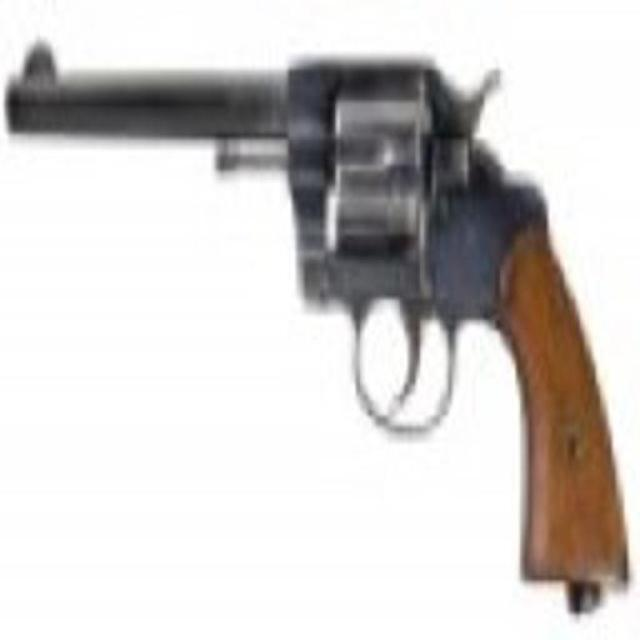pistol: (15, 42, 627, 591)
